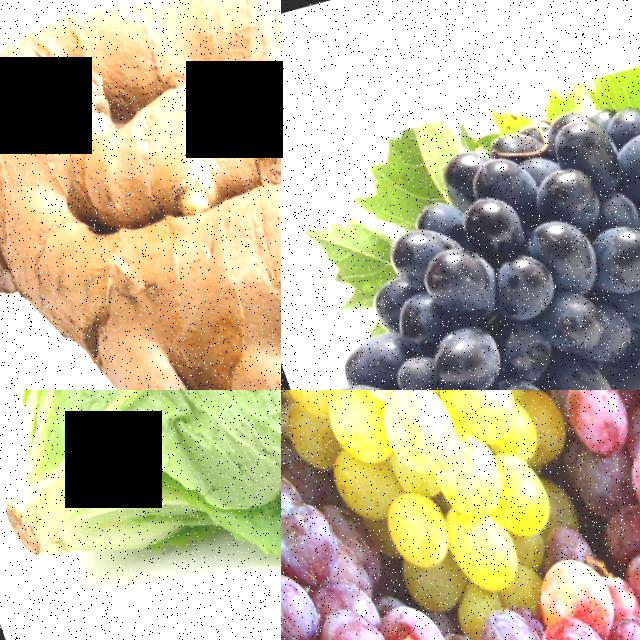ginger: (0, 0, 281, 390)
grapes: (281, 68, 640, 390), (281, 390, 620, 634), (281, 489, 560, 640), (515, 390, 640, 640), (461, 539, 640, 640)
lettuce: (0, 390, 281, 625)
